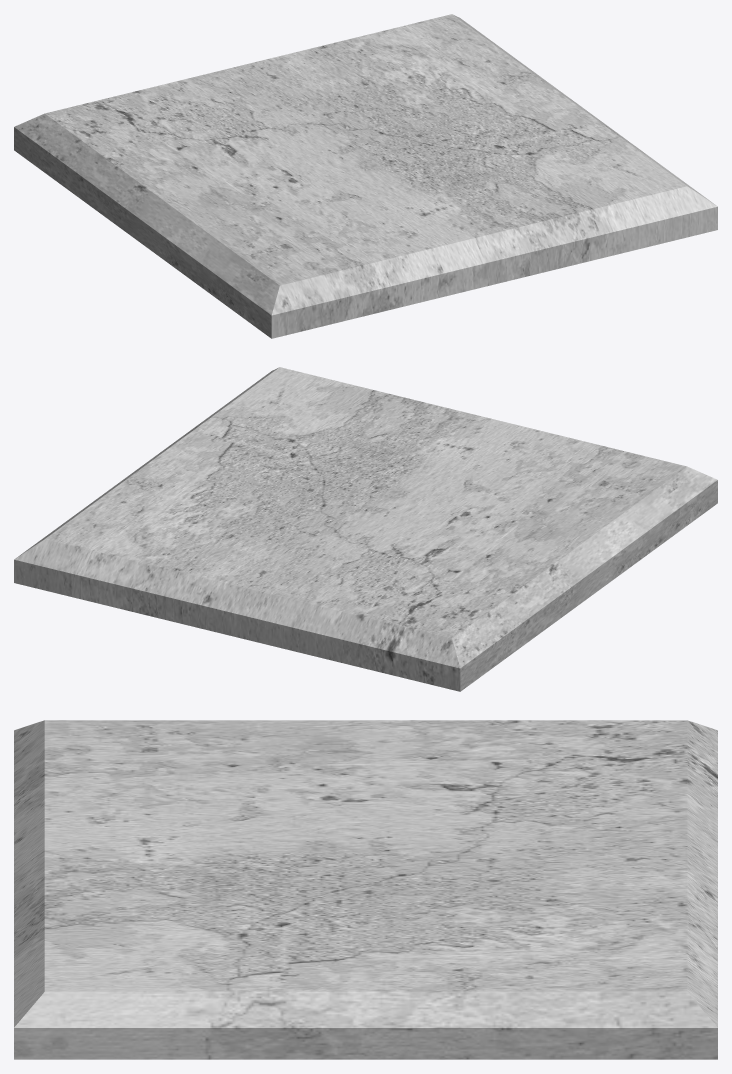
File: LVL_Pressure_Plate.fbx
3 views of the same model, one above another, from view 1: azimuth 30°, elevation 25°; view 2: azimuth 150°, elevation 25°; view 3: azimuth 270°, elevation 25° (orthographic). The views are drawn at different scales.
Visible parts, largest first — view 1: Pressure_Plate; view 2: Pressure_Plate; view 3: Pressure_Plate.
Boxes of the visible parts, x1,y1,x2,y2 form: Pressure_Plate: (14,14,717,338); Pressure_Plate: (14,367,717,691); Pressure_Plate: (14,720,717,1059).
Size of the model in its own units: 188 by 16.18 by 188.
1 material, 1 textured.
